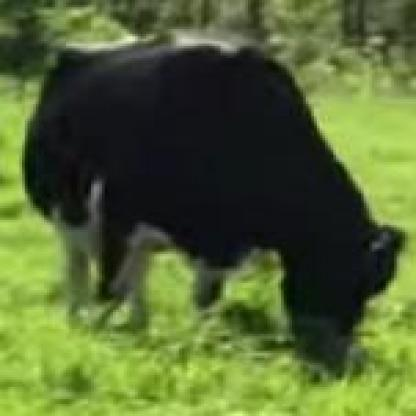cow: (21, 30, 409, 386)
